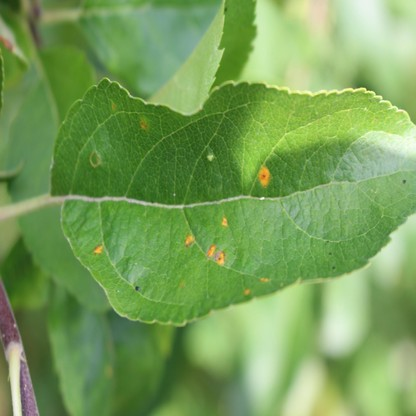rust: (208, 245, 225, 265), (258, 162, 268, 187), (0, 36, 13, 52), (92, 244, 103, 255), (185, 234, 194, 246), (141, 119, 148, 130), (221, 217, 228, 226), (111, 98, 116, 110), (260, 277, 270, 283), (244, 287, 250, 296)
